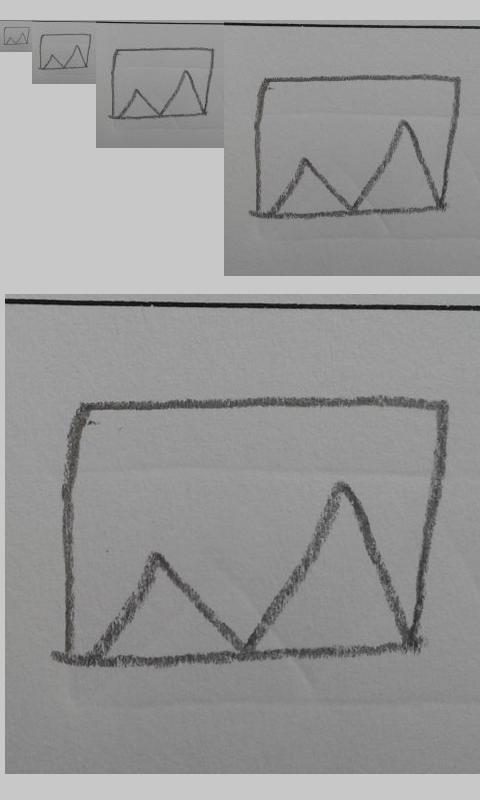image_view: (58, 395, 447, 666), (252, 74, 463, 220), (111, 47, 216, 120), (39, 33, 92, 70), (3, 26, 30, 46)
